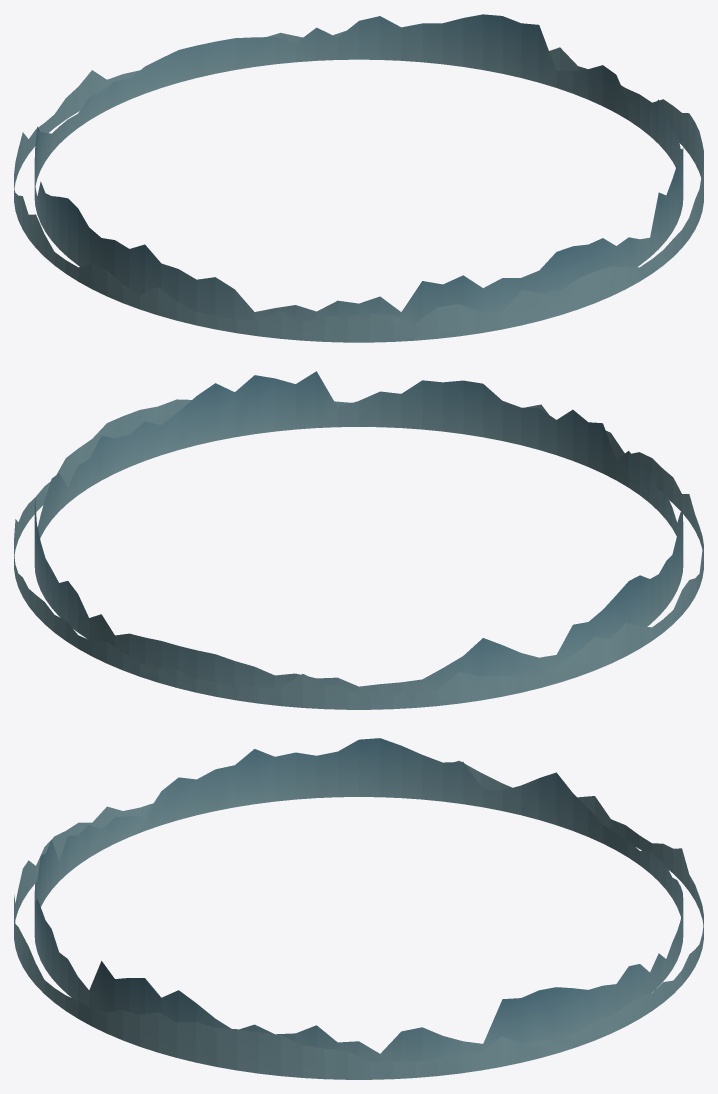
File: mountains.glb
3 views of the same model, one above another, from view 1: azimuth 30°, elevation 25°; view 2: azimuth 150°, elevation 25°; view 3: azimuth 270°, elevation 25° (orthographic).
Visible parts, largest first — view 1: mountains_part_0; view 2: mountains_part_0; view 3: mountains_part_0.
Boxes of the visible parts, x1,y1,x2,y2 form: mountains_part_0: (14,14,703,342); mountains_part_0: (14,371,703,709); mountains_part_0: (14,738,703,1079).
Size of the model in its own units: 2009 by 190 by 2009.
